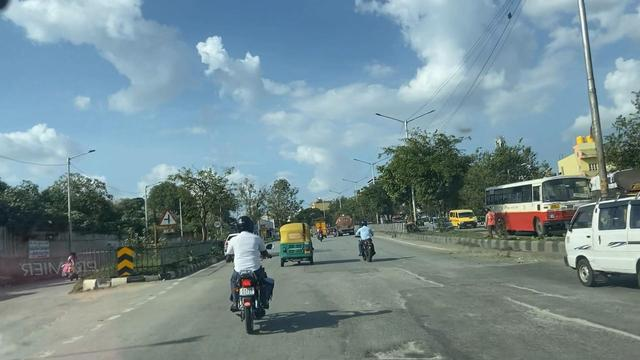HMV: (483, 168, 590, 235)
RoadDamages: (472, 290, 640, 350), (358, 295, 449, 360)
